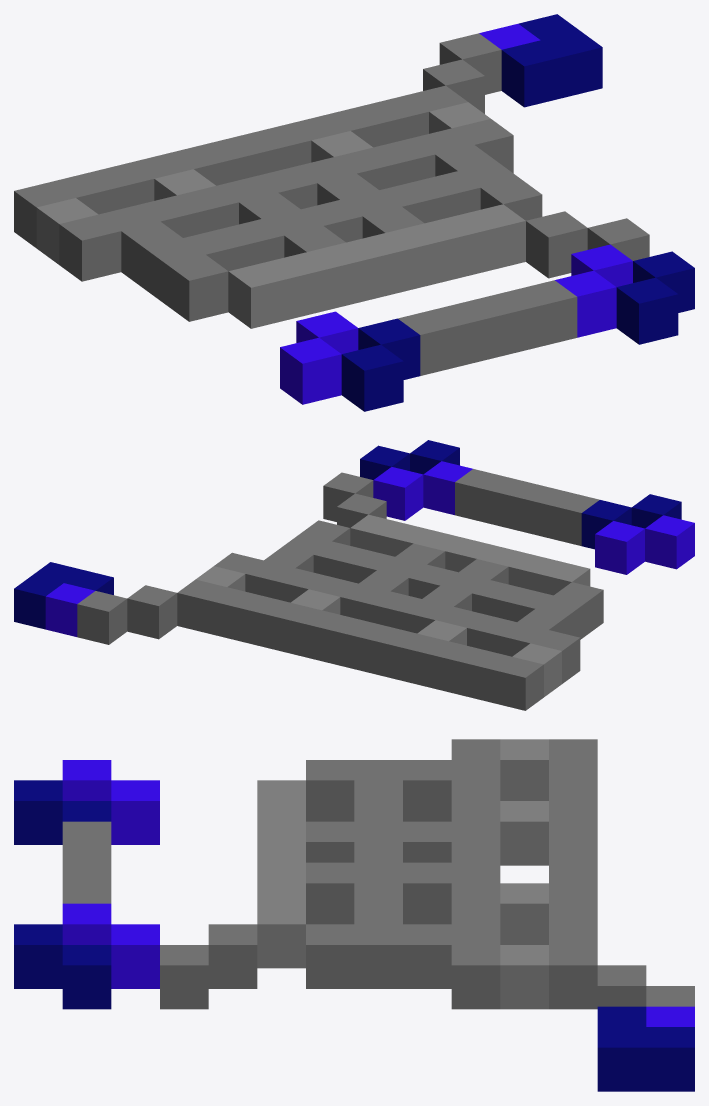
The model's file is HHB Cart.obj.
The picture shows the model from 3 angles, top to bottom: view 1: azimuth 30°, elevation 25°; view 2: azimuth 150°, elevation 25°; view 3: azimuth 270°, elevation 25°; orthographic projection. The views are drawn at different scales.
Size of the model in its own units: 15 by 1 by 14.
